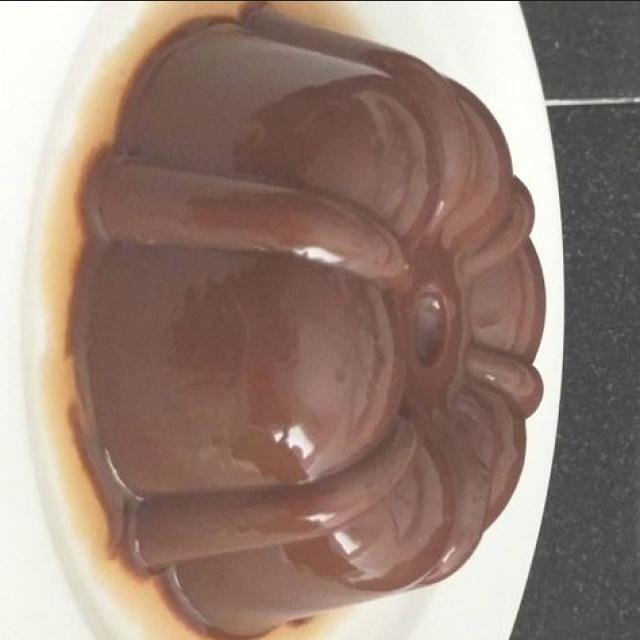puding: (68, 4, 545, 640)
